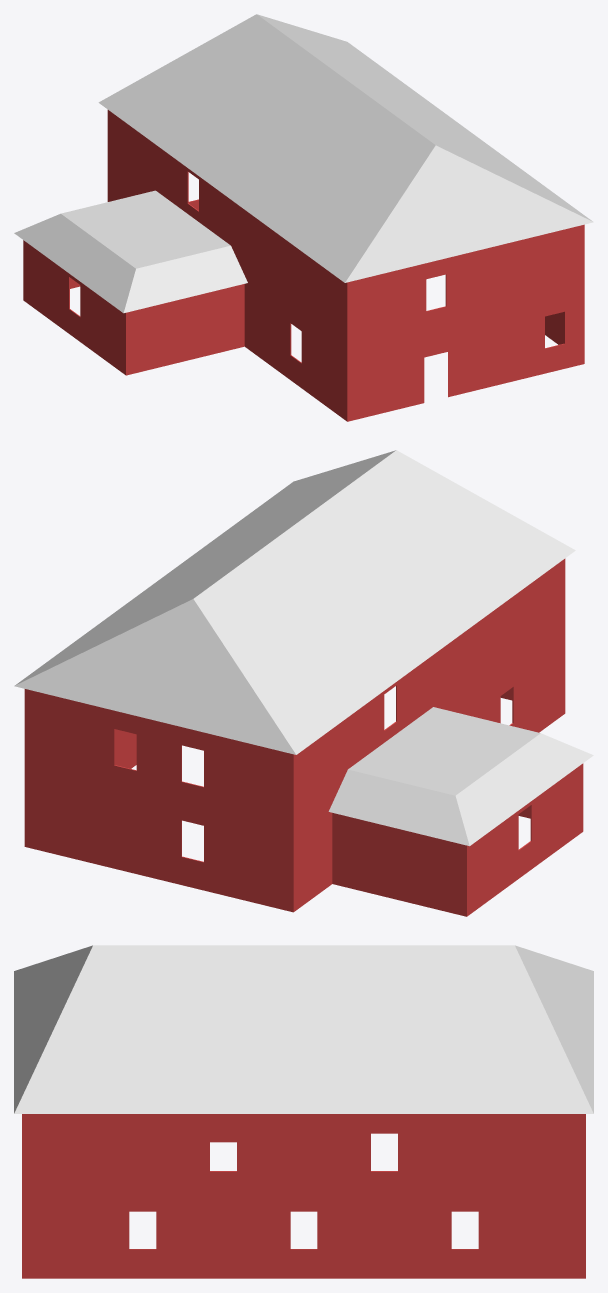
File: Casa_2A1.fbx
3 views of the same model, one above another, from view 1: azimuth 30°, elevation 25°; view 2: azimuth 150°, elevation 25°; view 3: azimuth 270°, elevation 25° (orthographic). The views are drawn at different scales.
Visible parts, largest first — view 1: Casa_2A1; view 2: Casa_2A1; view 3: Casa_2A1.
Part boxes in pixels (x1=…): Casa_2A1: x1=14, y1=14, x2=593, y2=421; Casa_2A1: x1=14, y1=450, x2=593, y2=916; Casa_2A1: x1=14, y1=945, x2=593, y2=1278.
Size of the model in its own units: 1860 by 1090 by 2160.
